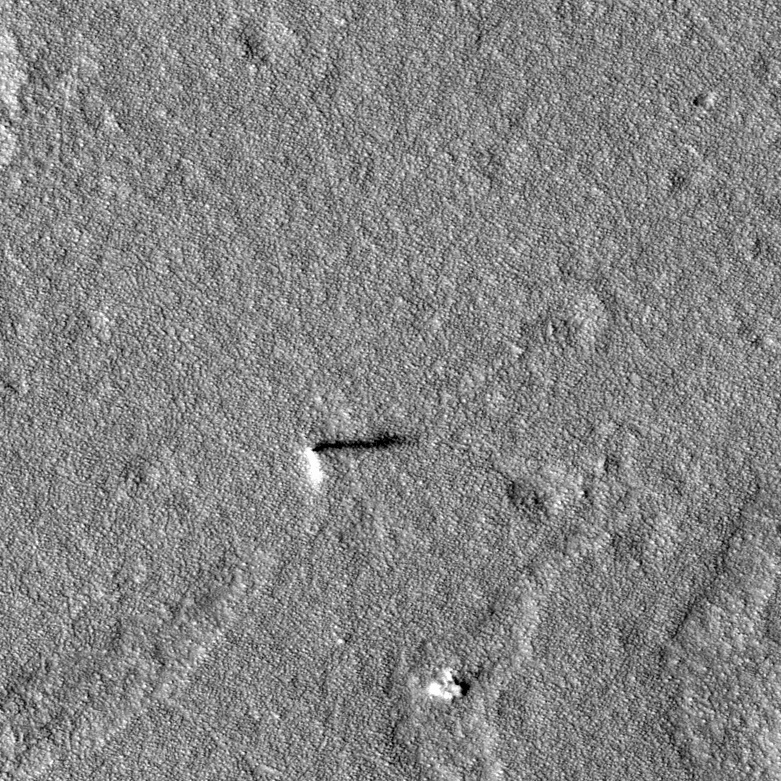dust_devil: (299, 427, 420, 495)
